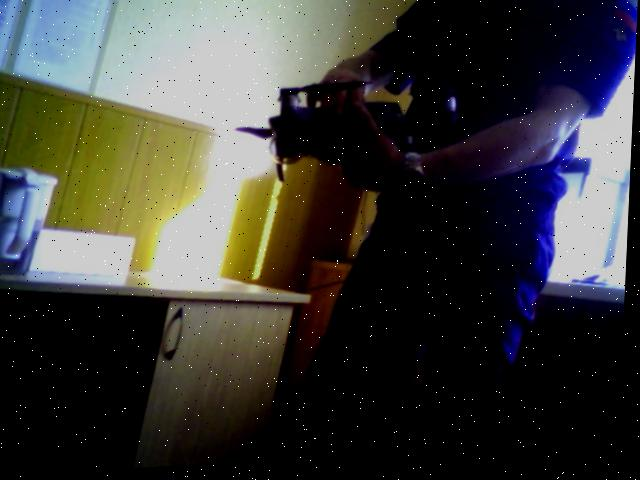drone: (236, 70, 487, 187)
